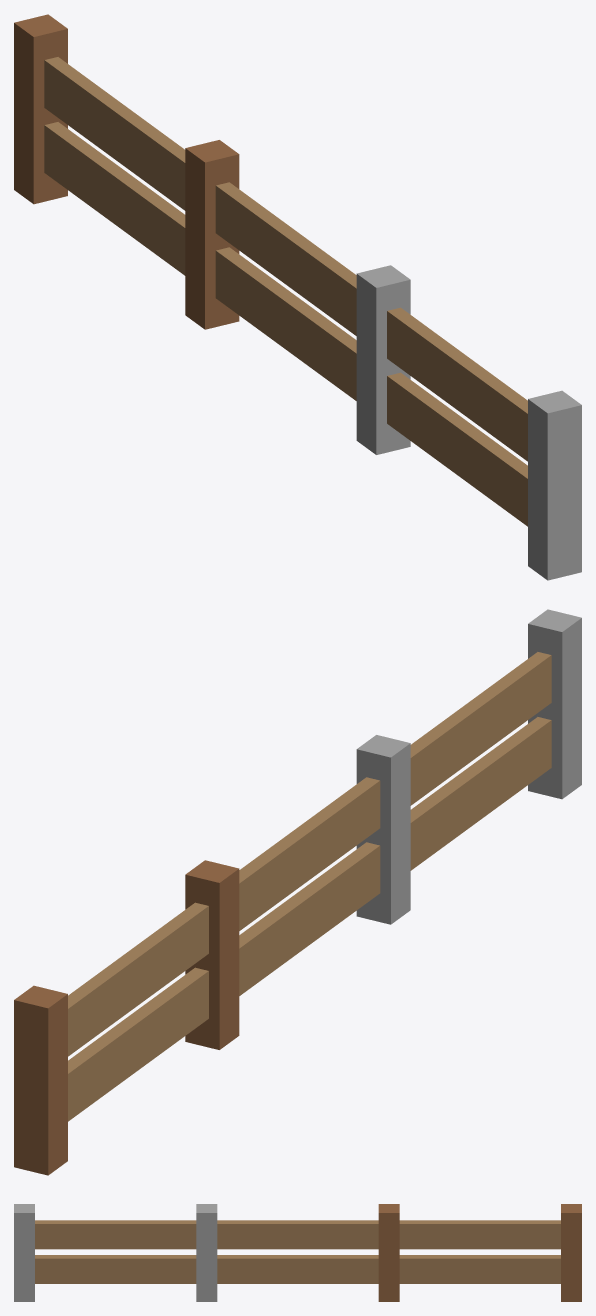
The model's file is Fence_01.fbx.
The picture shows the model from 3 angles, top to bottom: view 1: azimuth 30°, elevation 25°; view 2: azimuth 150°, elevation 25°; view 3: azimuth 270°, elevation 25°; orthographic projection. The views are drawn at different scales.
Visible parts, largest first — view 1: pCube96, pCube92, pCube91, pCube90, pCube88, pCube98, pCube97, pCube94, pCube87, pCube93; view 2: pCube93, pCube98, pCube97, pCube90, pCube88, pCube92, pCube91, pCube87, pCube94, pCube96; view 3: pCube88, pCube97, pCube91, pCube98, pCube92, pCube90, pCube94, pCube87, pCube96, pCube93.
Part boxes in pixels (bbox=[...]): pCube96: bbox=[528, 390, 581, 580]; pCube92: bbox=[44, 122, 185, 275]; pCube91: bbox=[44, 57, 185, 210]; pCube90: bbox=[215, 247, 356, 400]; pCube88: bbox=[215, 182, 356, 335]; pCube98: bbox=[387, 372, 527, 526]; pCube97: bbox=[387, 307, 527, 461]; pCube94: bbox=[356, 265, 410, 454]; pCube87: bbox=[185, 140, 239, 329]; pCube93: bbox=[14, 14, 67, 204]; pCube93: bbox=[14, 985, 67, 1175]; pCube98: bbox=[410, 717, 551, 870]; pCube97: bbox=[410, 652, 551, 805]; pCube90: bbox=[239, 842, 380, 995]; pCube88: bbox=[239, 777, 380, 930]; pCube92: bbox=[68, 967, 208, 1121]; pCube91: bbox=[68, 902, 208, 1056]; pCube87: bbox=[185, 860, 239, 1049]; pCube94: bbox=[356, 735, 410, 924]; pCube96: bbox=[528, 609, 581, 799]; pCube88: bbox=[217, 1220, 378, 1249]; pCube97: bbox=[35, 1220, 196, 1249]; pCube91: bbox=[399, 1220, 560, 1249]; pCube98: bbox=[35, 1255, 196, 1283]; pCube92: bbox=[399, 1255, 560, 1283]; pCube90: bbox=[217, 1255, 378, 1283]; pCube94: bbox=[196, 1204, 217, 1301]; pCube87: bbox=[378, 1204, 399, 1301]; pCube96: bbox=[14, 1204, 34, 1301]; pCube93: bbox=[561, 1204, 581, 1301].
Bounding box in the file's own units: 0.75 × 3.5 × 20.25.
